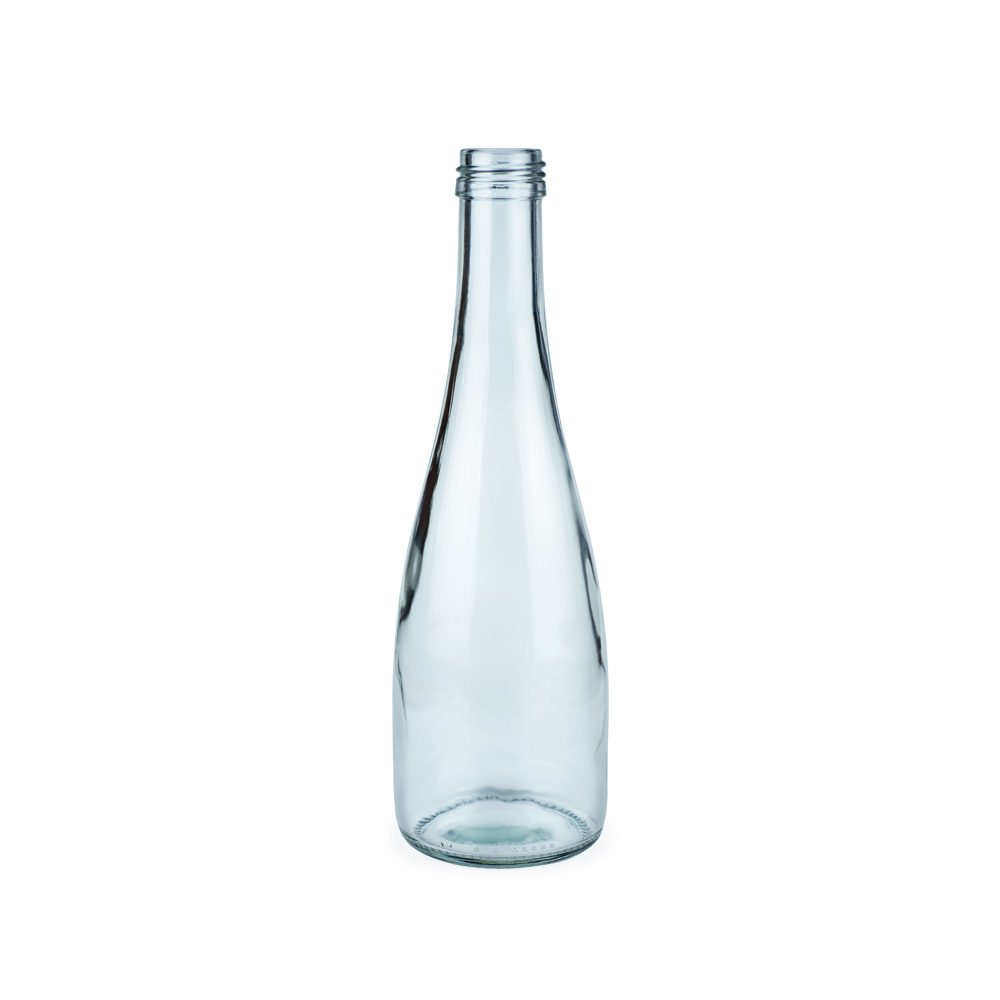glass_bottle: (366, 120, 641, 882)
